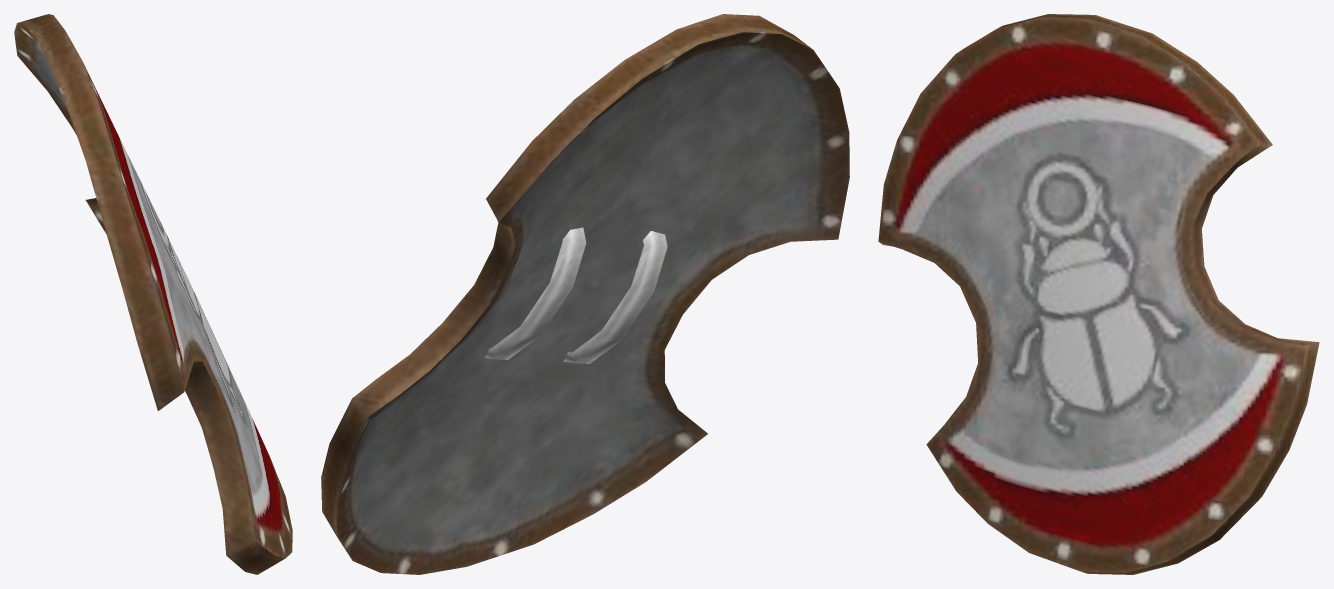
File: shield-bronzeshields.glb
The picture shows the model from 3 angles, left to right: view 1: azimuth 30°, elevation 25°; view 2: azimuth 150°, elevation 25°; view 3: azimuth 270°, elevation 25°; orthographic projection. The views are drawn at different scales.
Bounding box in the file's own units: 0.2796 × 0.4858 × 0.4118.
Materials: 1 (1 with a texture image).
